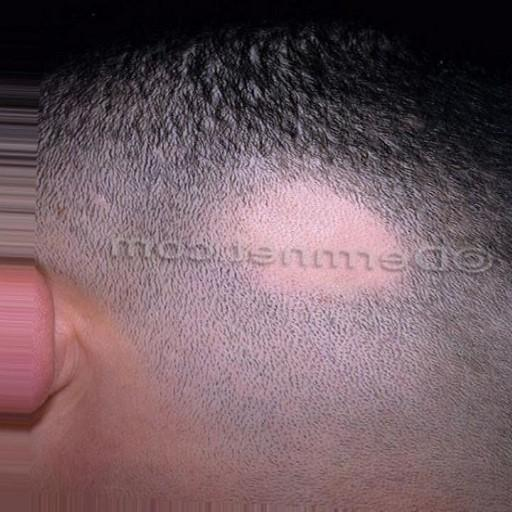Alopecia Areata: (204, 170, 436, 314)
